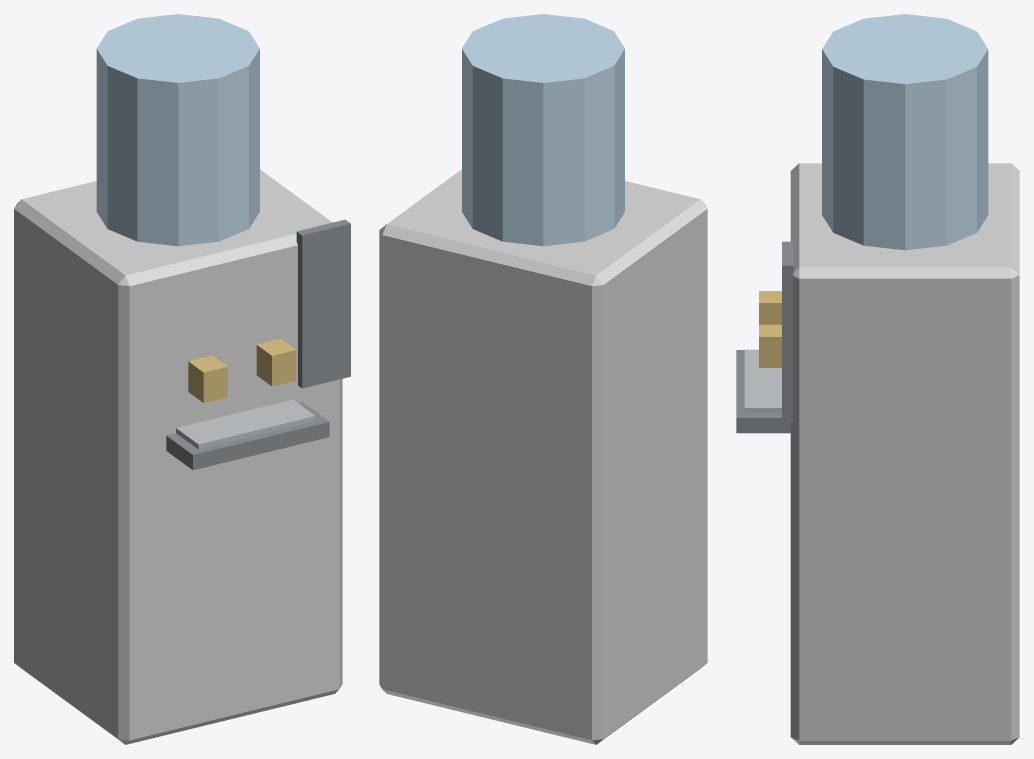
Rendered from P_water_cooler_v2.fbx.
3 views of the same model, side by side, from view 1: azimuth 30°, elevation 25°; view 2: azimuth 150°, elevation 25°; view 3: azimuth 270°, elevation 25° (orthographic).
Parts seen in each view (by area): view 1: P_water_cooler_v2; view 2: P_water_cooler_v2; view 3: P_water_cooler_v2.
Boxes of the visible parts, bbox=[...] form: P_water_cooler_v2: bbox=[14, 14, 350, 744]; P_water_cooler_v2: bbox=[379, 14, 707, 744]; P_water_cooler_v2: bbox=[736, 14, 1019, 744].
Size of the model in its own units: 0.46 by 1.24 by 0.495.
